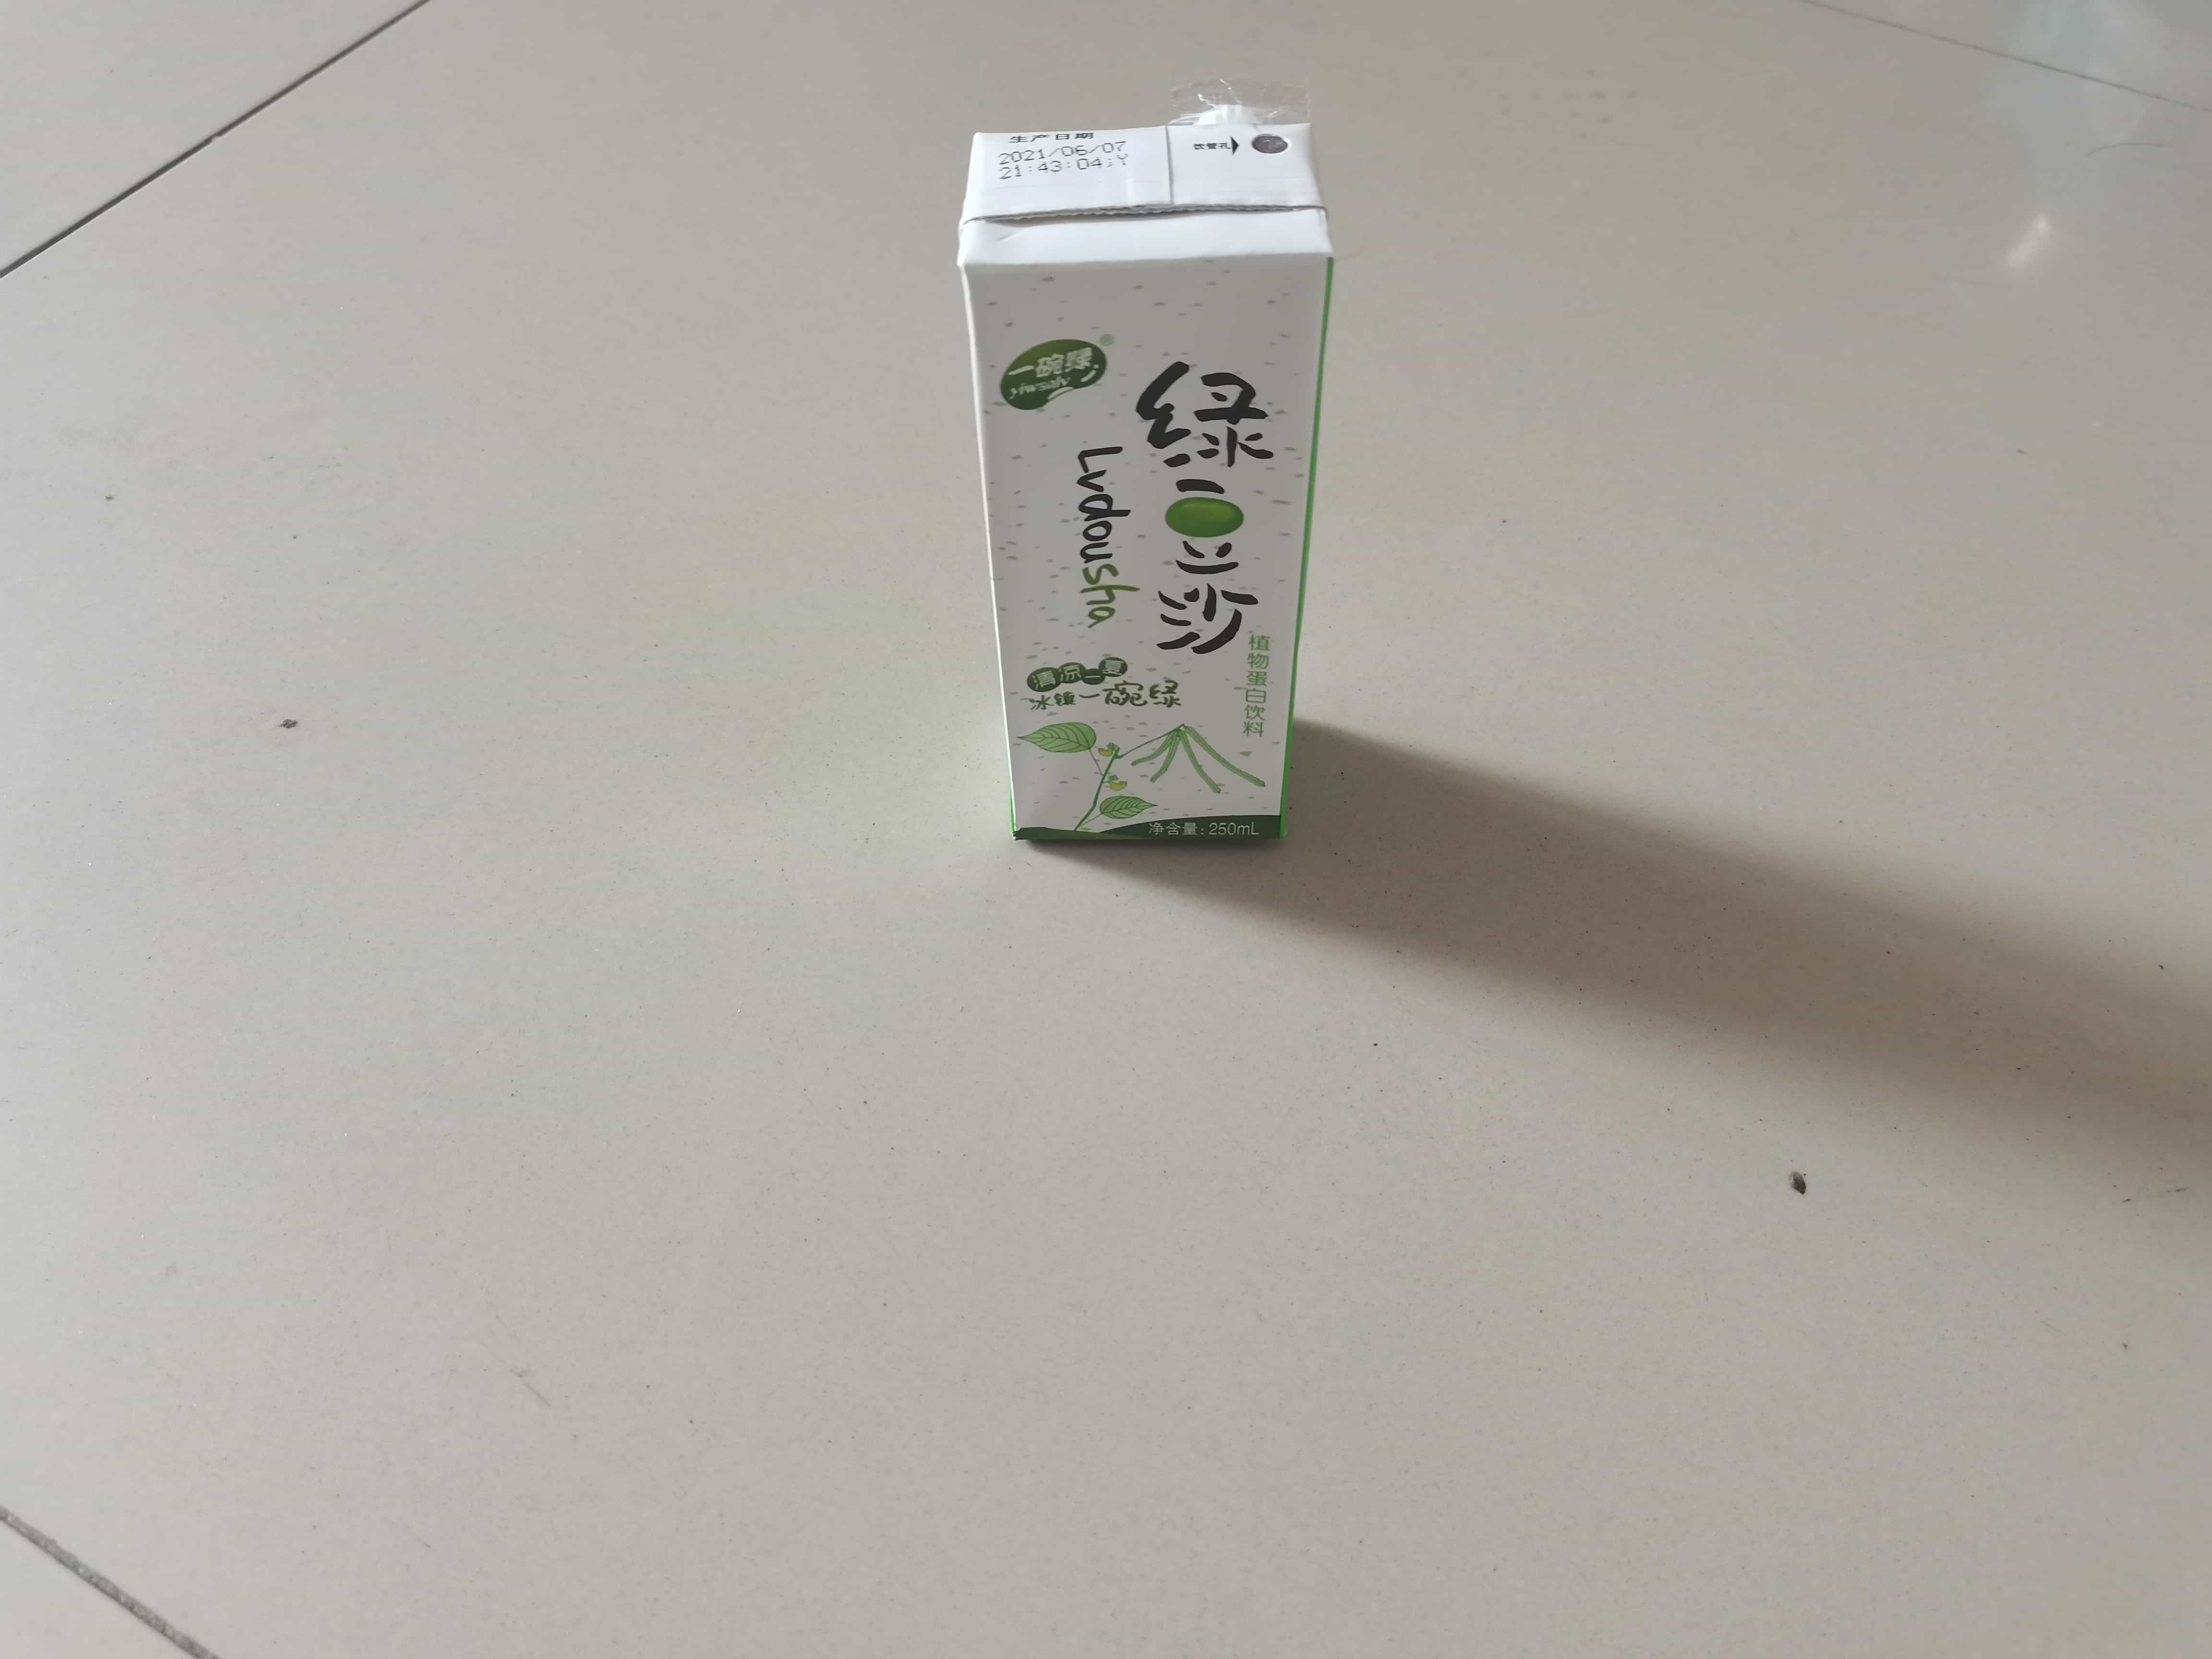milk_box: (939, 98, 1348, 873)
